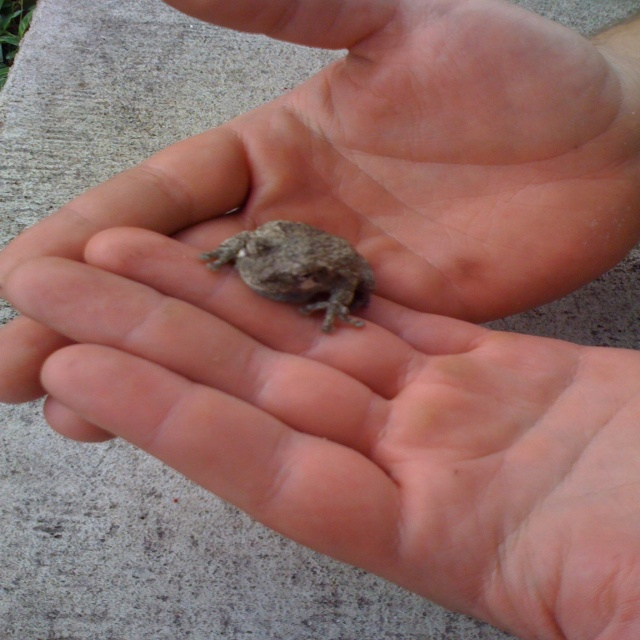Frog: (194, 218, 375, 336)
